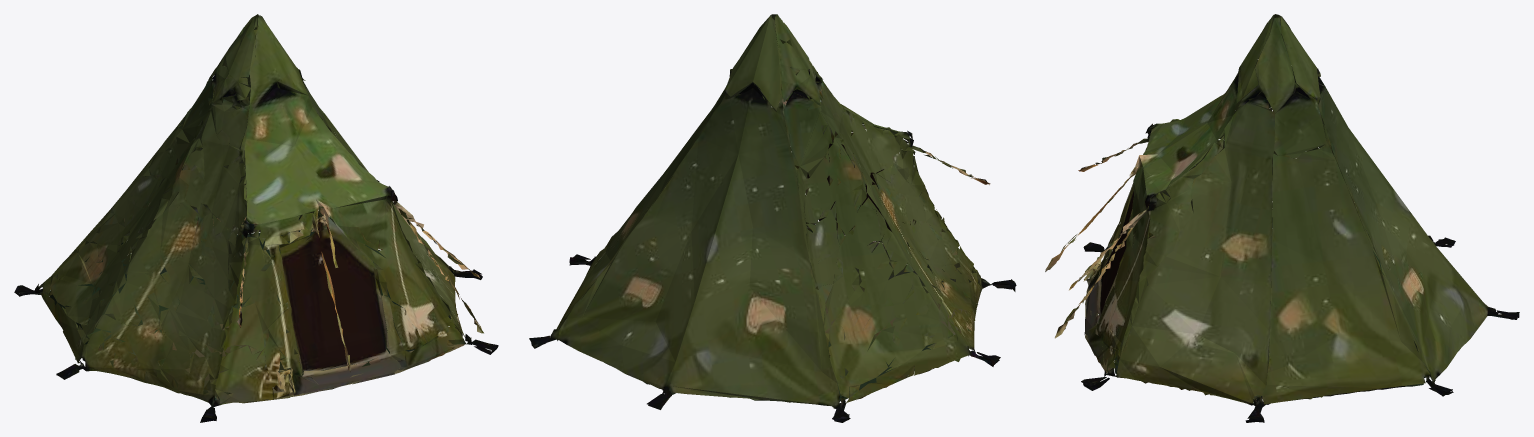
Rendered from tent_military.glb.
3 views of the same model, side by side, from view 1: azimuth 30°, elevation 25°; view 2: azimuth 150°, elevation 25°; view 3: azimuth 270°, elevation 25° (orthographic).
Visible parts, largest first — view 1: obj.obj; view 2: obj.obj; view 3: obj.obj.
Boxes of the visible parts, x1,y1,x2,y2 form: obj.obj: [14, 14, 498, 422]; obj.obj: [529, 14, 1016, 422]; obj.obj: [1045, 14, 1519, 422].
Bounding box in the file's own units: 3.74 × 2.59 × 3.63.
1 material, 1 textured.
